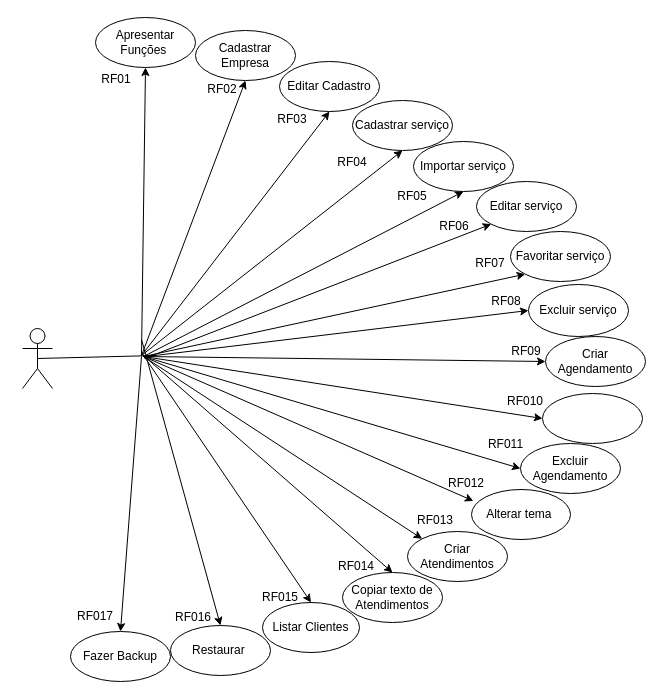
Image size: 663x699. Some labels were removed from this diagram. The shapes that lost their labels are listed below. From the top down, each one's box as (x1, y1, x2, y2) in pixels, then its label:
(22, 328, 52, 388): Usuário
(542, 392, 642, 444): Editar Agendamento
